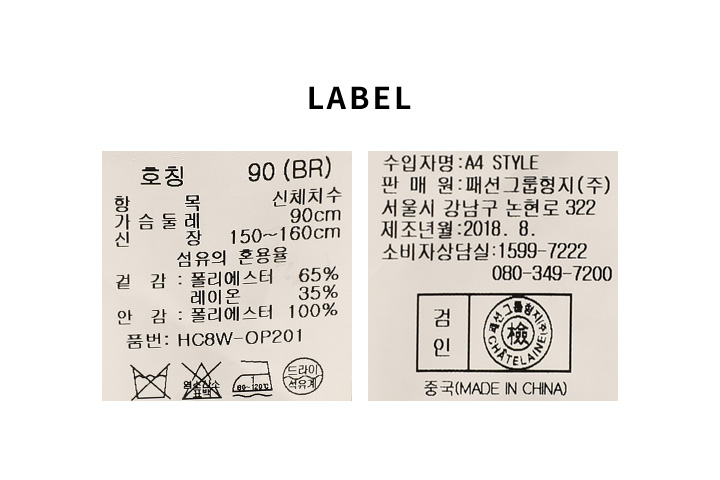KR_dry_clean_petroleum: (280, 354, 328, 397)
KR_iron_low_temp_with_cloth: (230, 355, 275, 399)
KR_no_bleach: (177, 359, 226, 401)
KR_no_wash: (125, 361, 172, 401)
